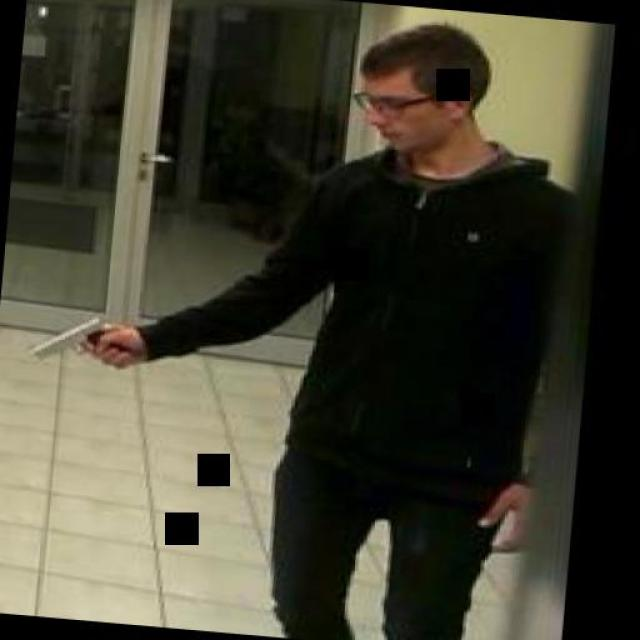gun: (25, 307, 125, 368)
